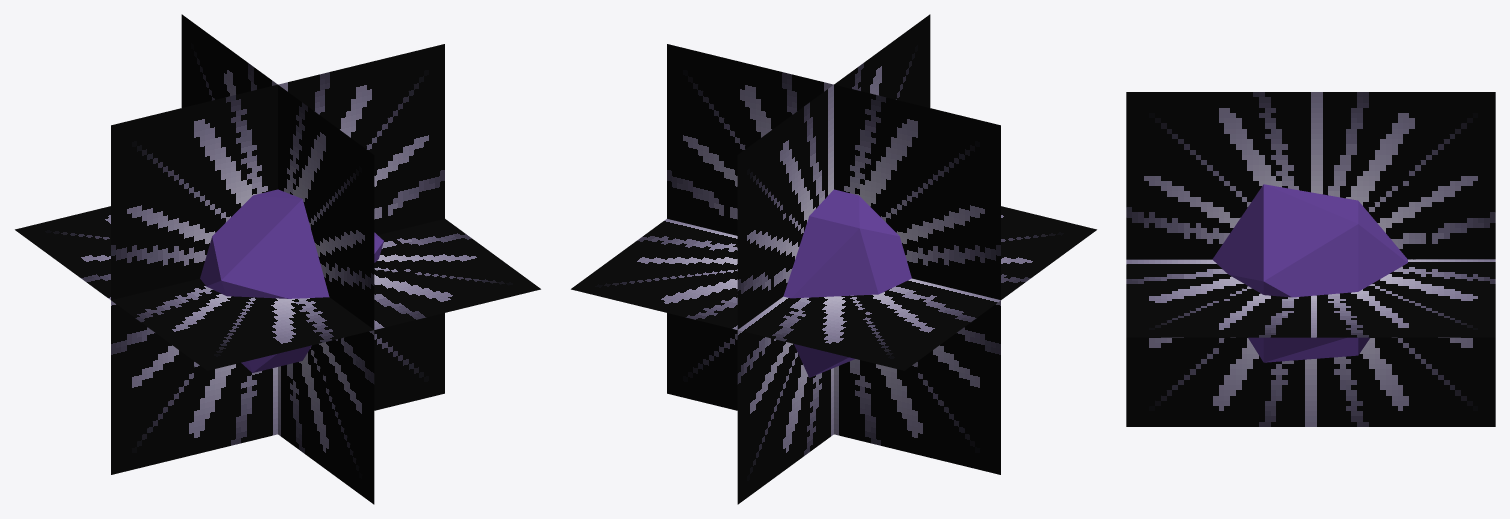
File: seaUrchin.fbx
3 renders of one model, left to right at view 1: azimuth 30°, elevation 25°; view 2: azimuth 150°, elevation 25°; view 3: azimuth 270°, elevation 25°, orthographic. The views are drawn at different scales.
Parts seen in each view (by area): view 1: SeaUrchin; view 2: SeaUrchin; view 3: SeaUrchin.
Boxes of the visible parts, x1,y1,x2,y2 form: SeaUrchin: (15, 14, 540, 504); SeaUrchin: (571, 14, 1096, 504); SeaUrchin: (1126, 92, 1495, 426).
Bounding box in the file's own units: 2.8 × 2.8 × 2.8.
2 materials, 1 textured.
